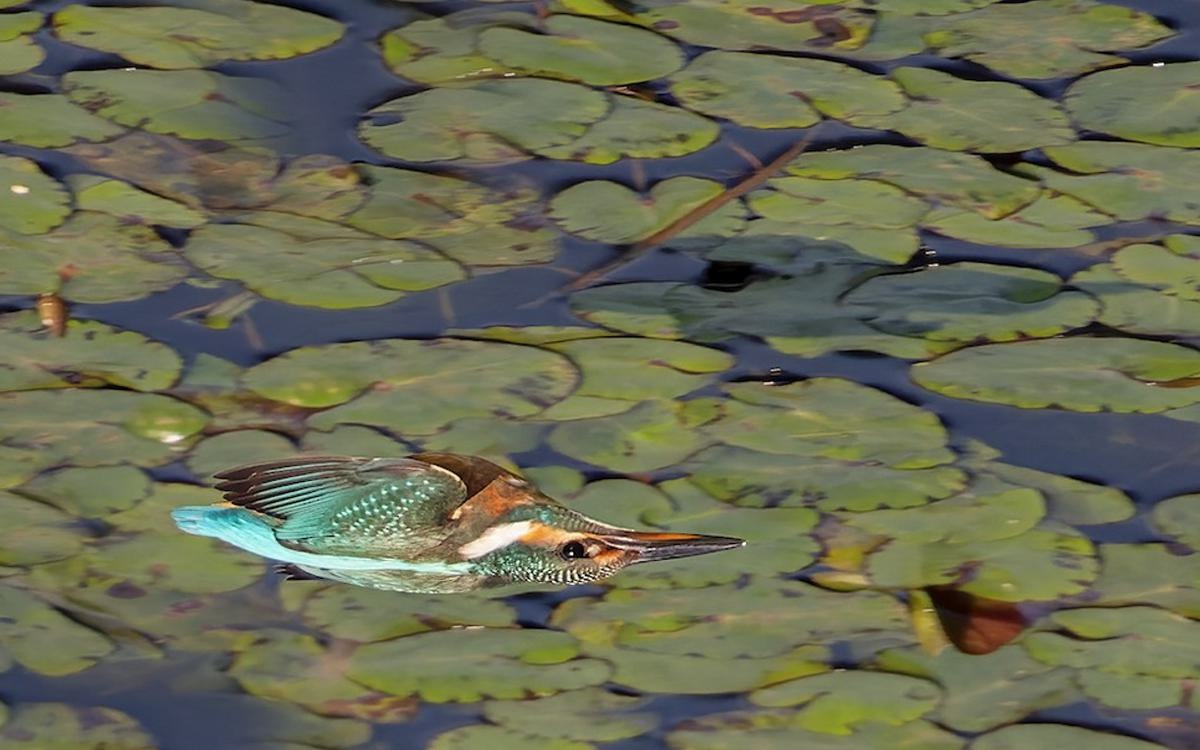kingfisher: (160, 428, 755, 605)
